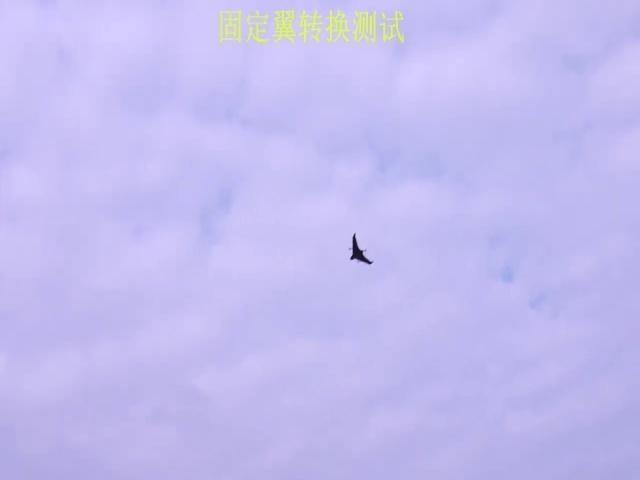Airplane: (349, 232, 373, 264)
